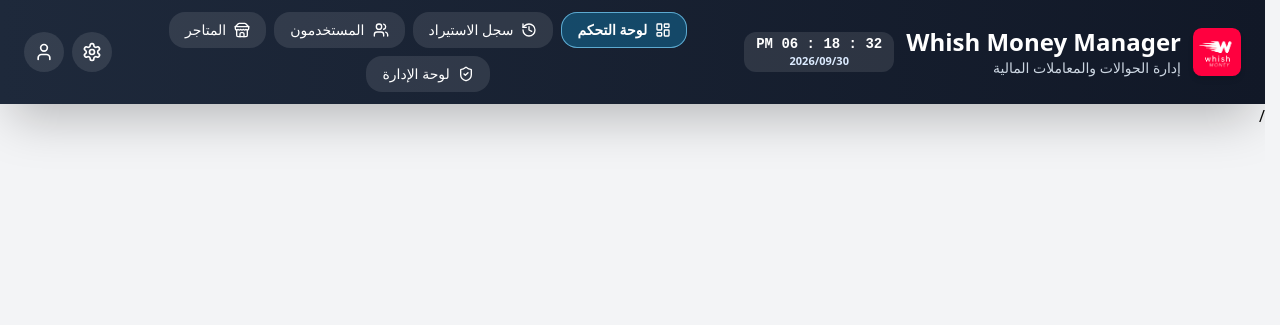
Test: layout › there is no separate Log out button any more; it's in the account menu
Check: the text "خروج" is not shown
Click the button with test id "user-menu-button" at (44, 52), box [24,32,64,72]
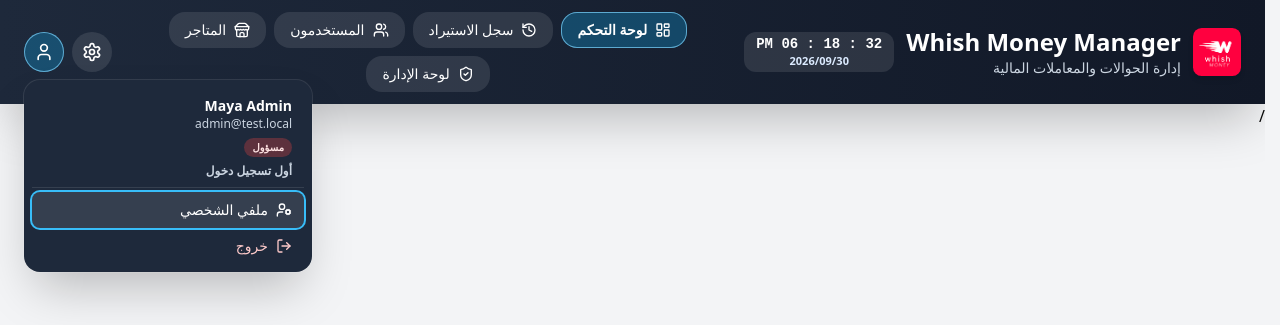
Check: the menu item with test id "logout-button" reads "خروج", box [32,228,304,264]
